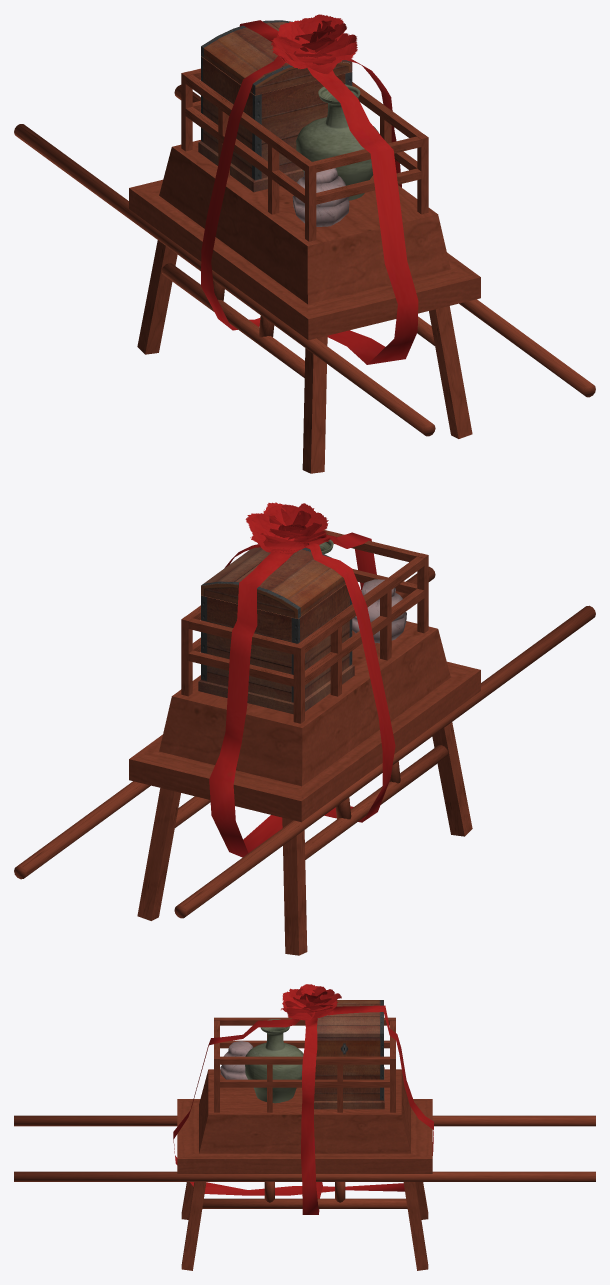
The model's file is FC_N592_B_Dowry_F.fbx.
The picture shows the model from 3 angles, top to bottom: view 1: azimuth 30°, elevation 25°; view 2: azimuth 150°, elevation 25°; view 3: azimuth 270°, elevation 25°; orthographic projection. The views are drawn at different scales.
Parts seen in each view (by area): view 1: Dowry_F; view 2: Dowry_F; view 3: Dowry_F.
Part boxes in pixels (box(x1,y1,x2,y2)): Dowry_F: box(14, 14, 595, 473); Dowry_F: box(14, 502, 595, 955); Dowry_F: box(14, 984, 595, 1270).
Bounding box in the file's own units: 70.95 × 130 × 265.
